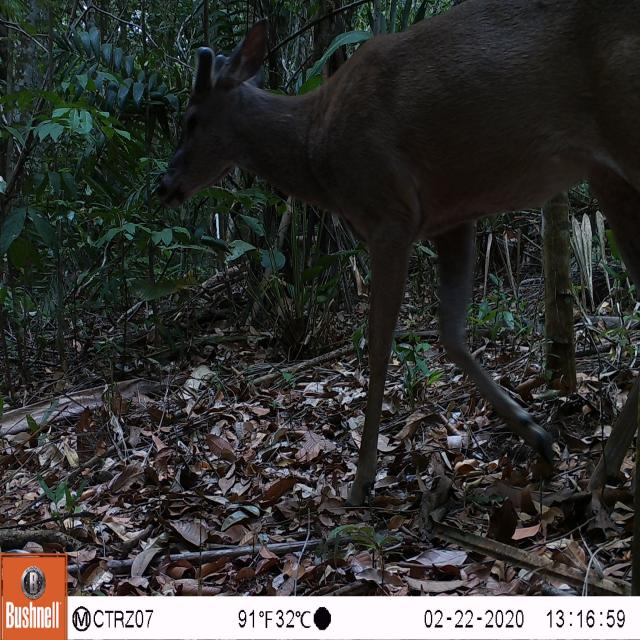White-tailed Deer: (128, 3, 640, 520)
